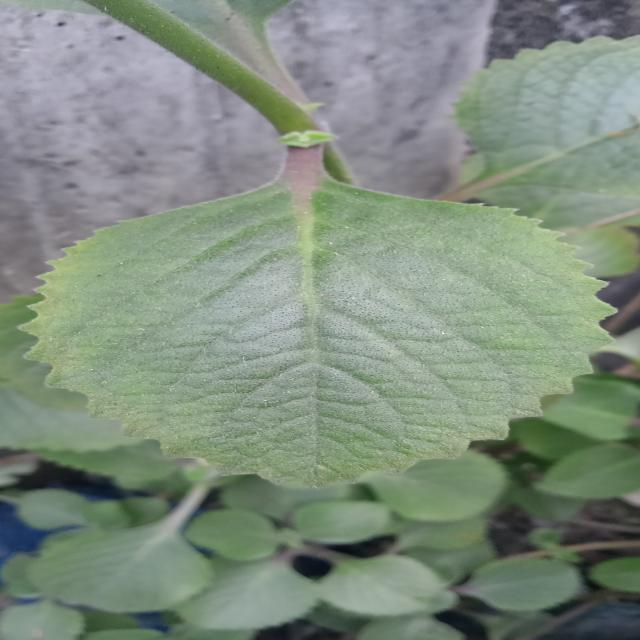Oregano: (8, 114, 640, 535)
